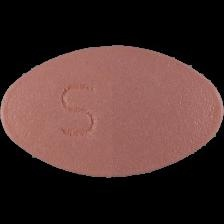63187-191: (0, 0, 224, 224)
